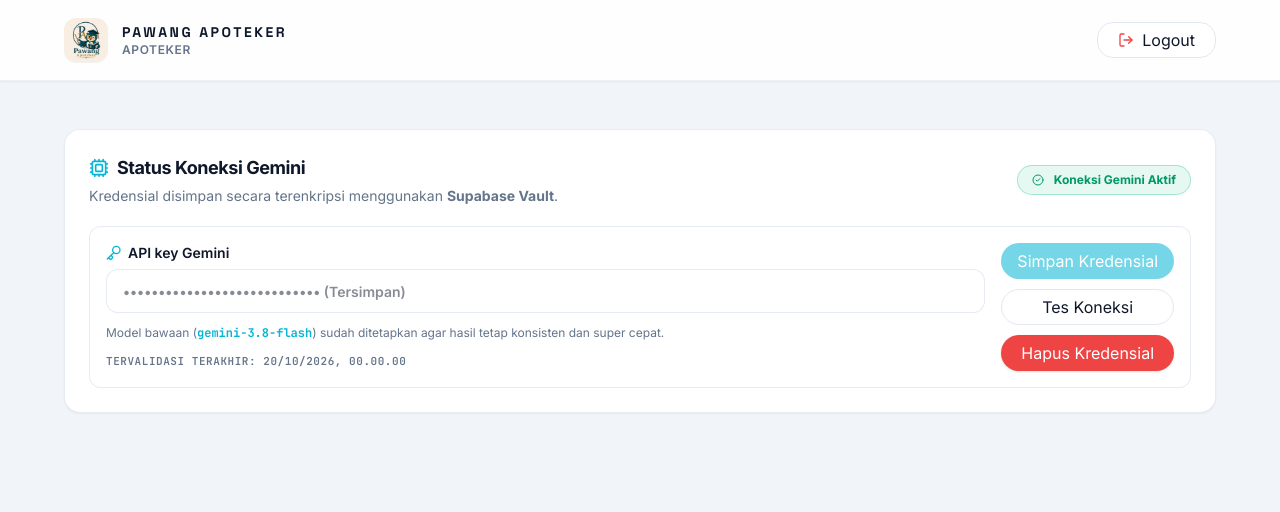
it: AiConfigPage › deletes credential and shows success feedback
Click the button "Hapus Kredensial". click: x=1088, y=353
box: [1001,335,1174,371]
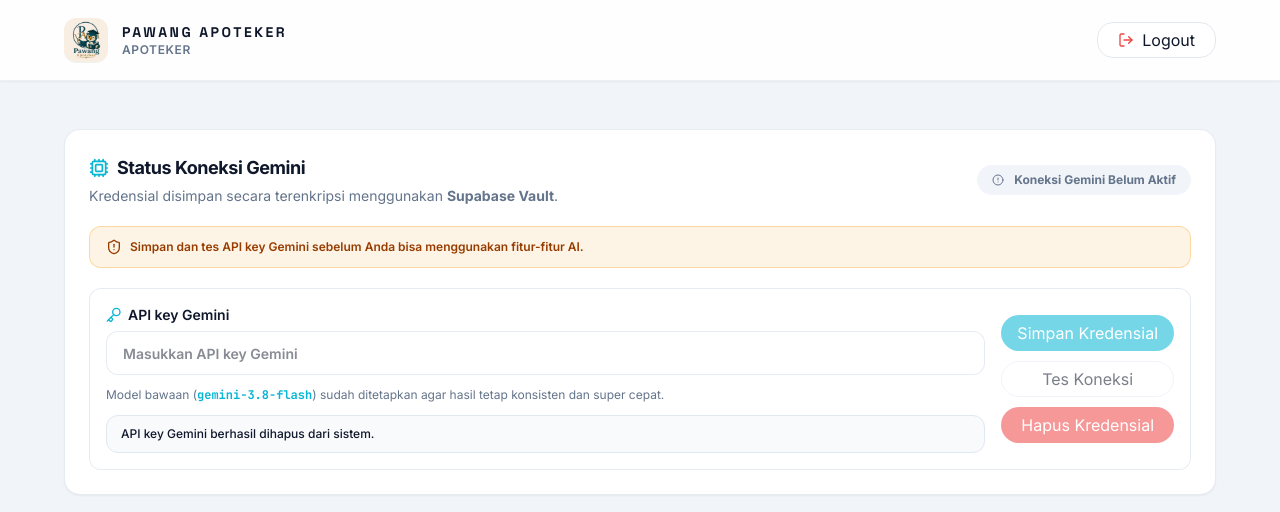
Result: the text "API key Gemini berhasil dihapus dari sistem." is shown at [106,415,985,453]
